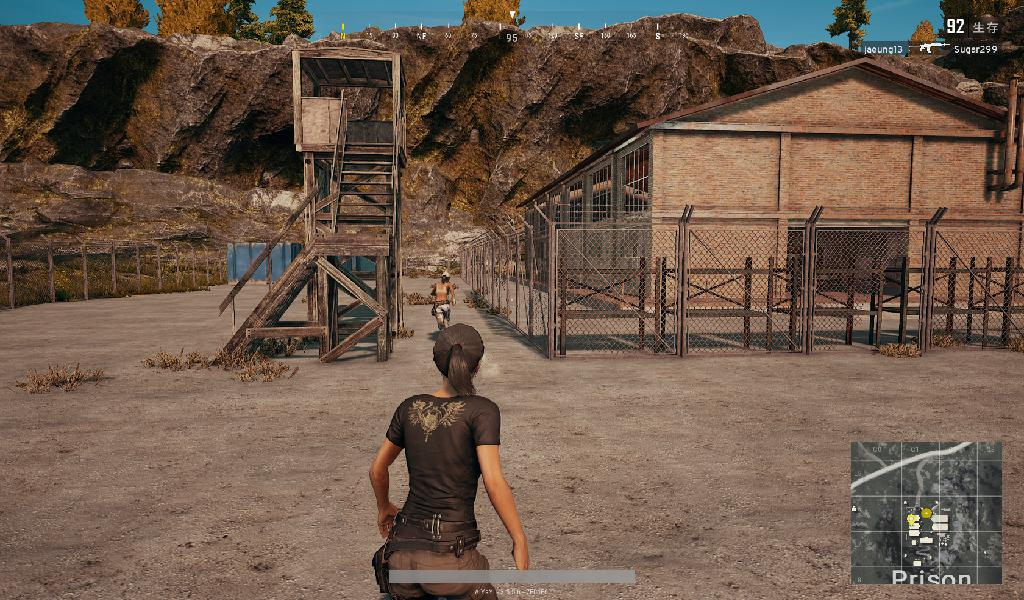Target Person: (366, 323, 536, 600), (423, 261, 456, 346)
